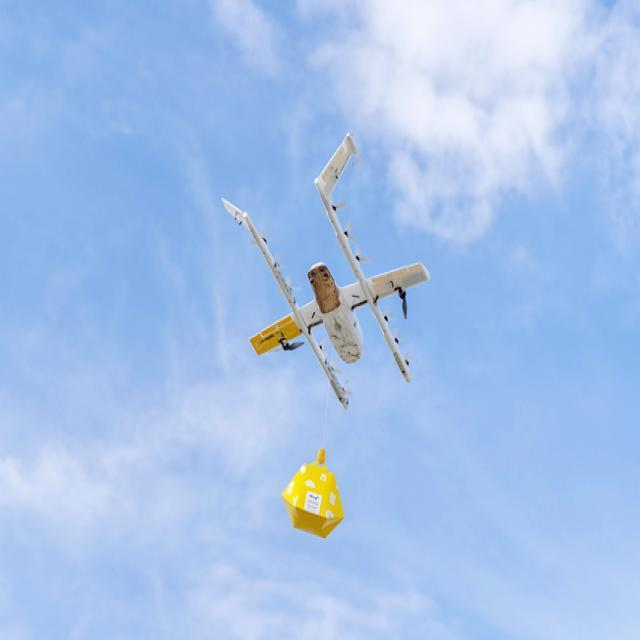iha: (212, 133, 434, 408)
